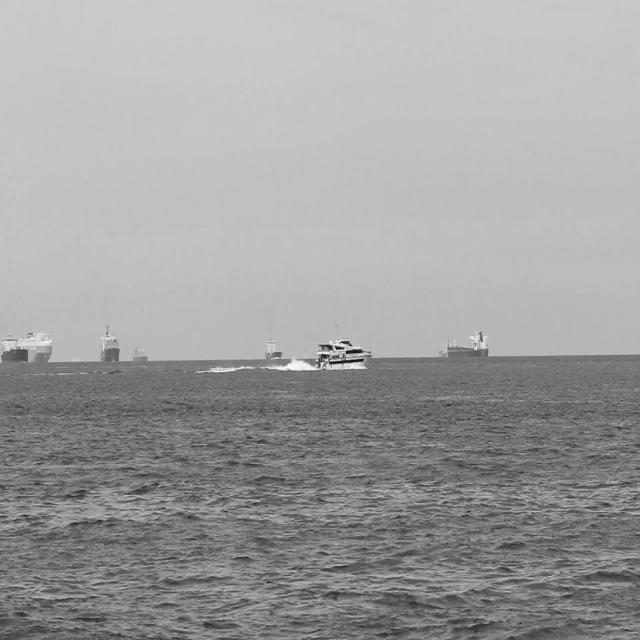ship: (302, 336, 374, 368), (435, 325, 488, 355), (5, 330, 52, 360), (98, 317, 120, 365), (0, 336, 28, 364), (260, 329, 282, 357), (128, 338, 148, 363)
